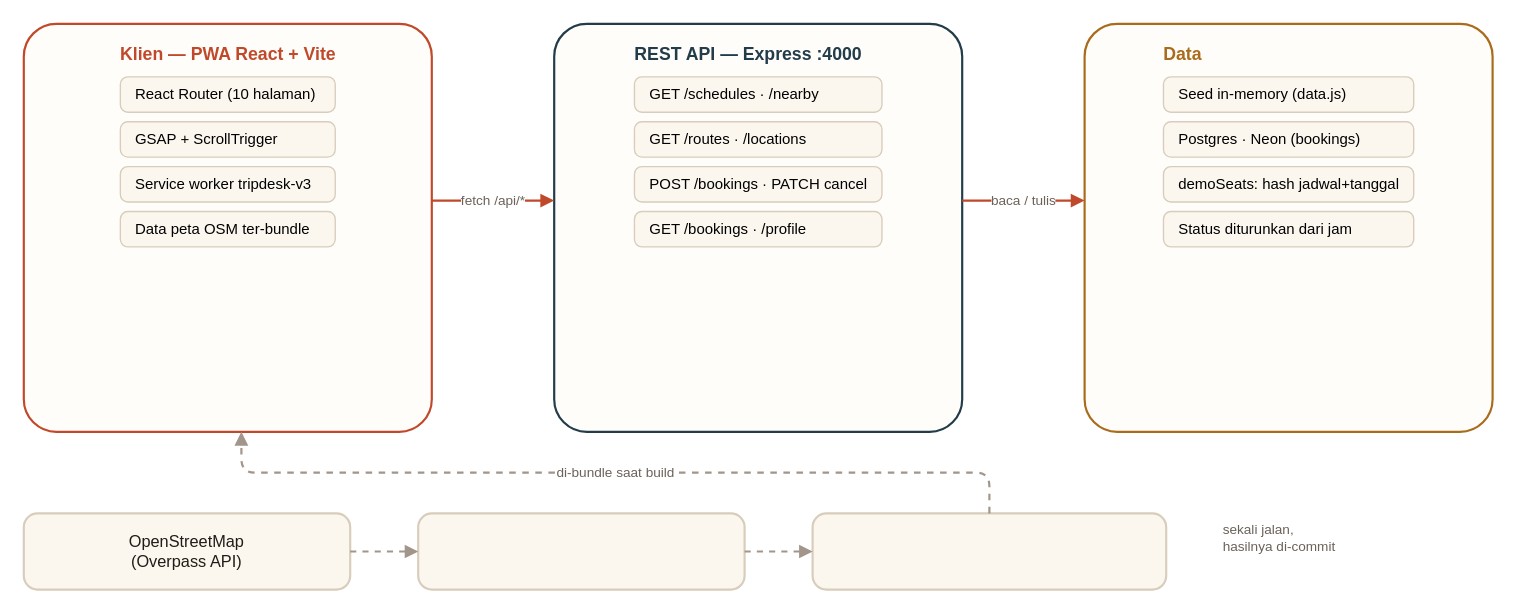
Some shapes in this 1518 by 615 pixel diagram are drawn without their labels. The centre of each missing label's shape, as x and y in pixels:
scripts/fetch-osm.mjs: the point at 580,551
src/map/osmSemarang.js: the point at 989,551
